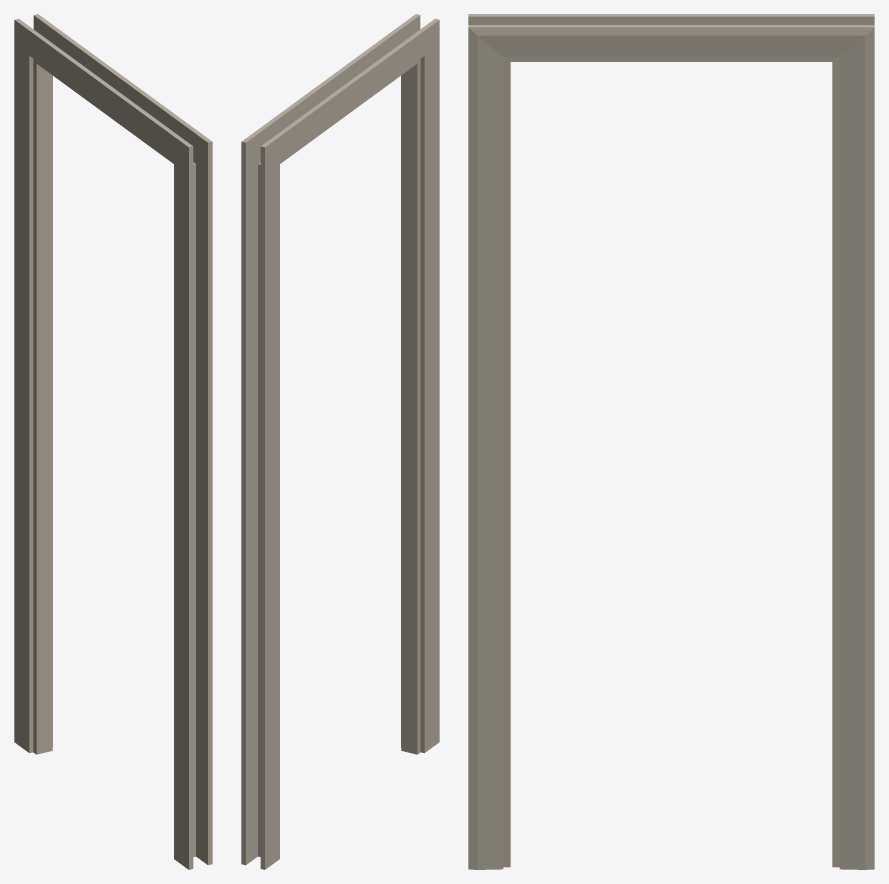
The model's file is 81_ASTRA_Frmae.glb.
The picture shows the model from 3 angles, left to right: view 1: azimuth 30°, elevation 25°; view 2: azimuth 150°, elevation 25°; view 3: azimuth 270°, elevation 25°; orthographic projection. The views are drawn at different scales.
Visible parts, largest first — view 1: 81_ASTRA_Frmae; view 2: 81_ASTRA_Frmae; view 3: 81_ASTRA_Frmae.
Part boxes in pixels (x1,y1,x2,y2): 81_ASTRA_Frmae: (14,14,212,869); 81_ASTRA_Frmae: (241,14,439,869); 81_ASTRA_Frmae: (468,14,874,869).
Size of the model in its own units: 0.0827 by 2.32 by 1.02.
